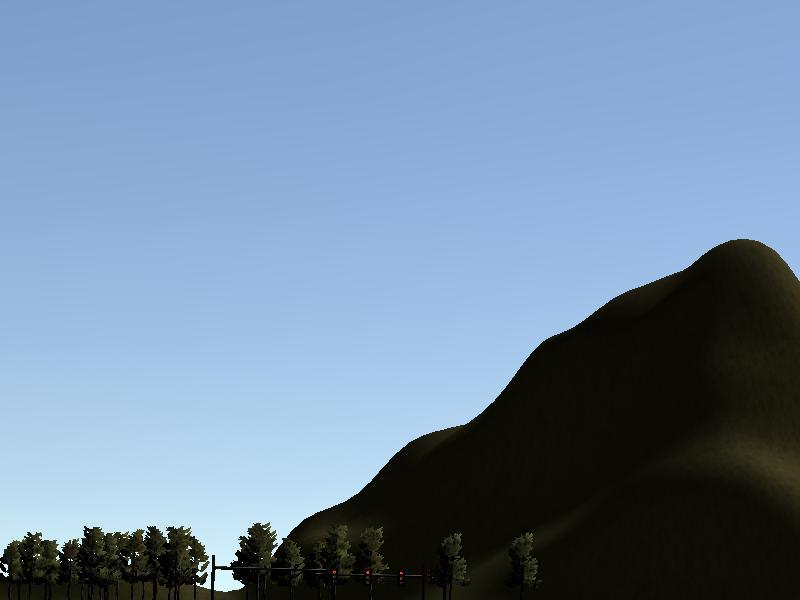Red: (331, 568, 339, 584), (364, 569, 372, 584), (396, 569, 404, 580)
